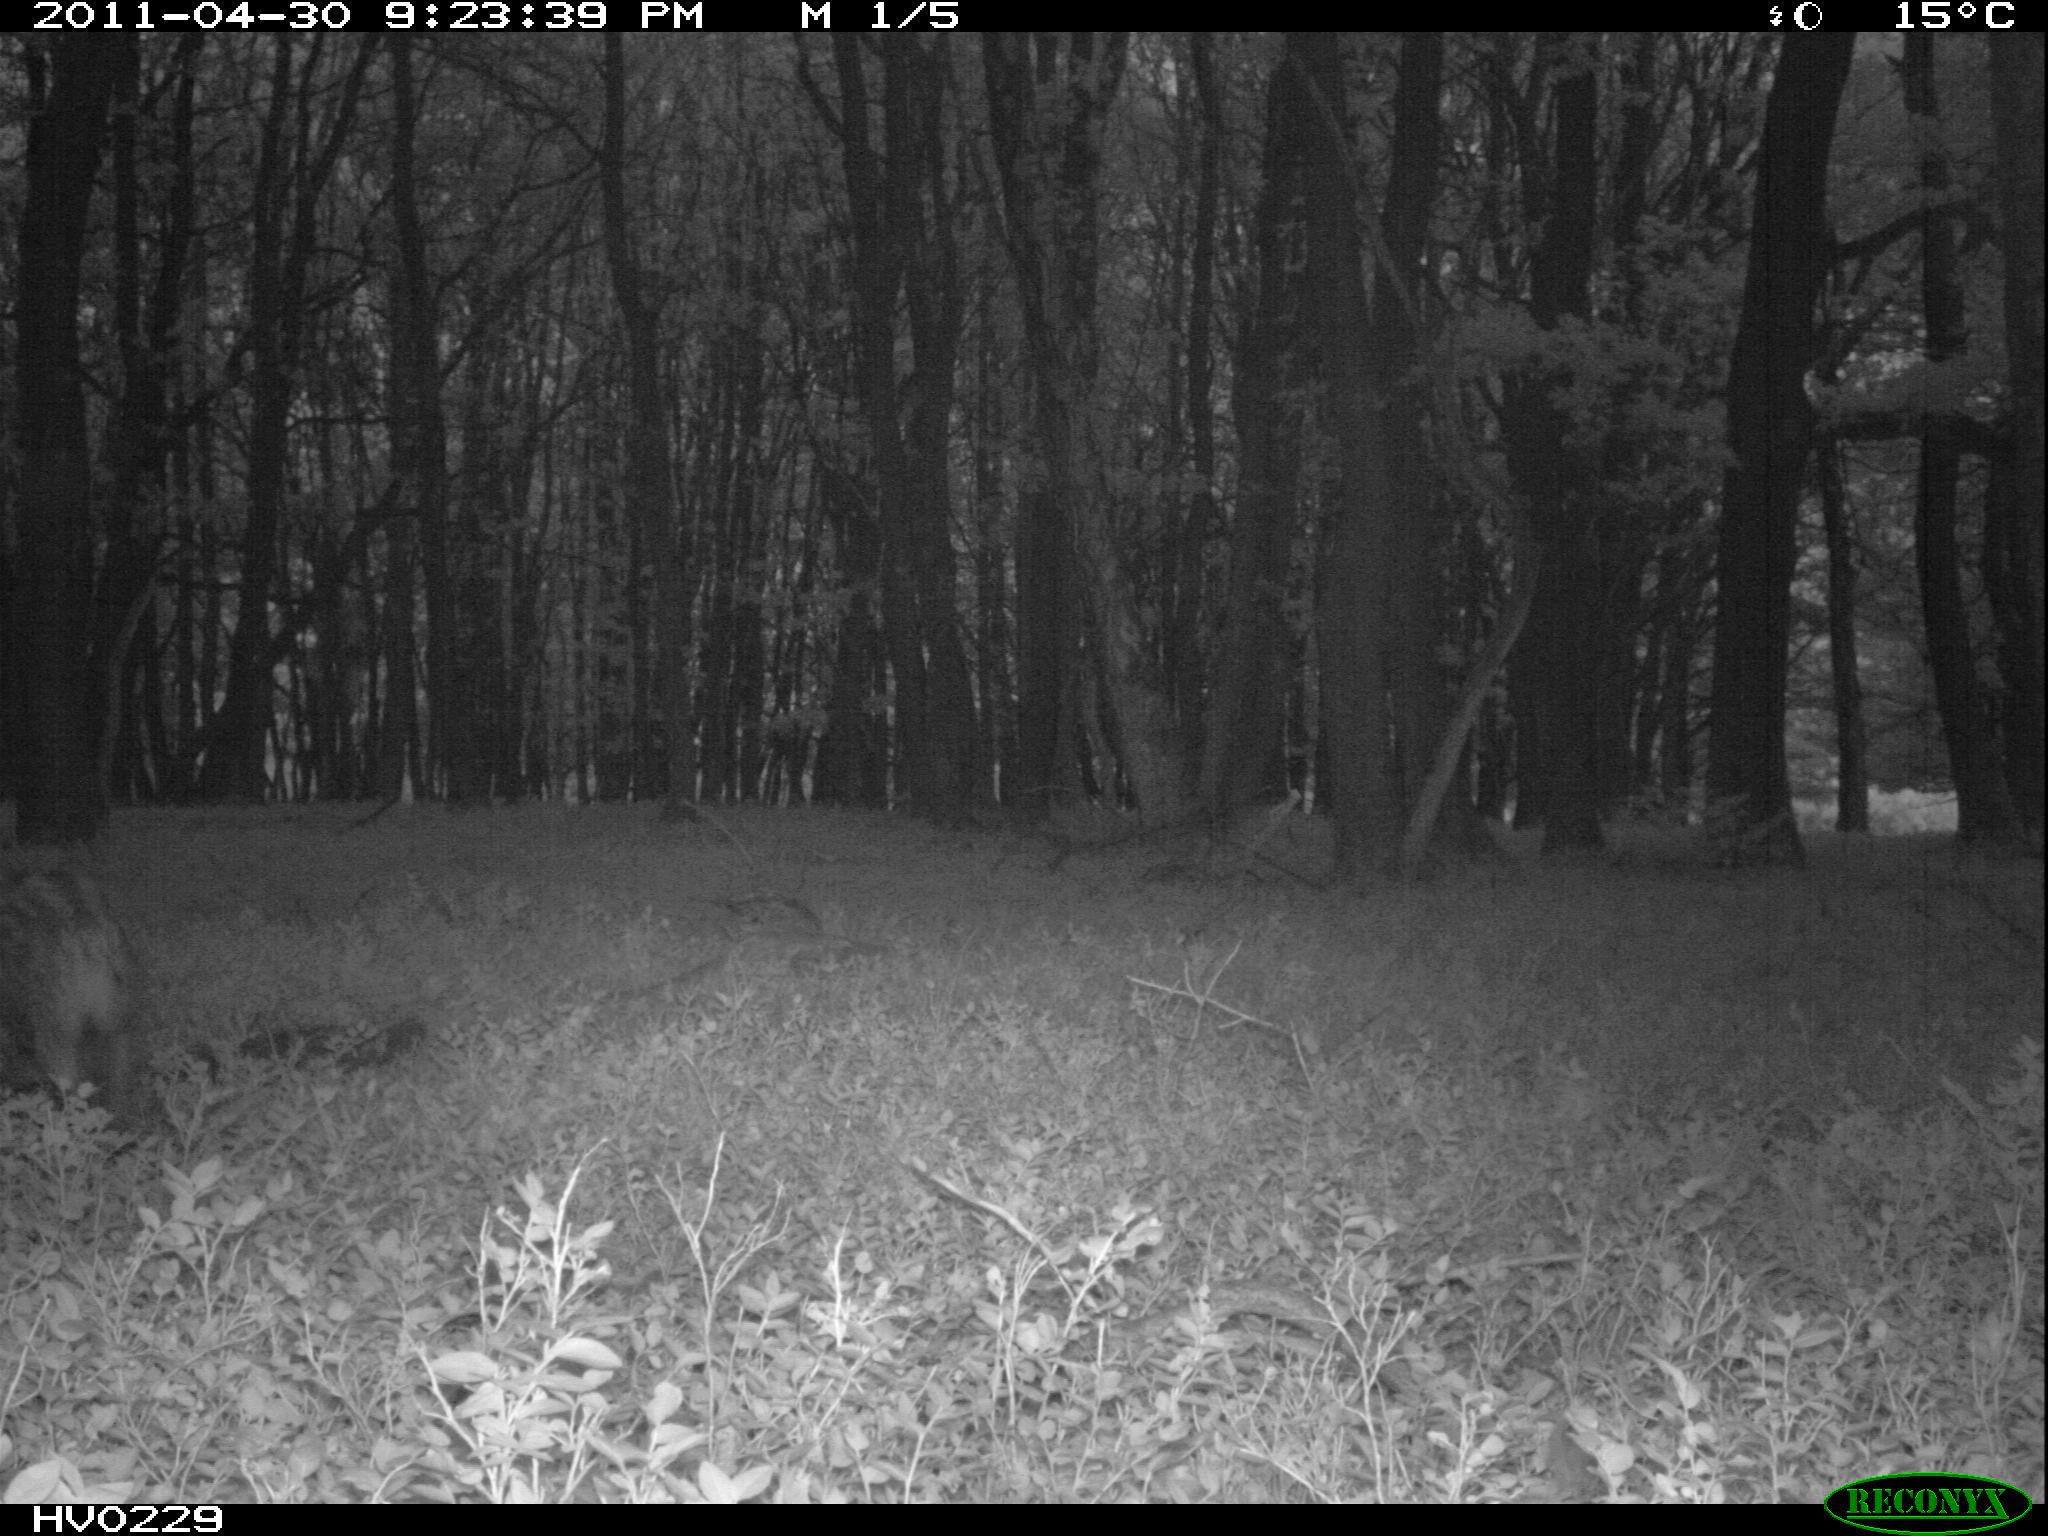Pig: (3, 828, 164, 1144)
